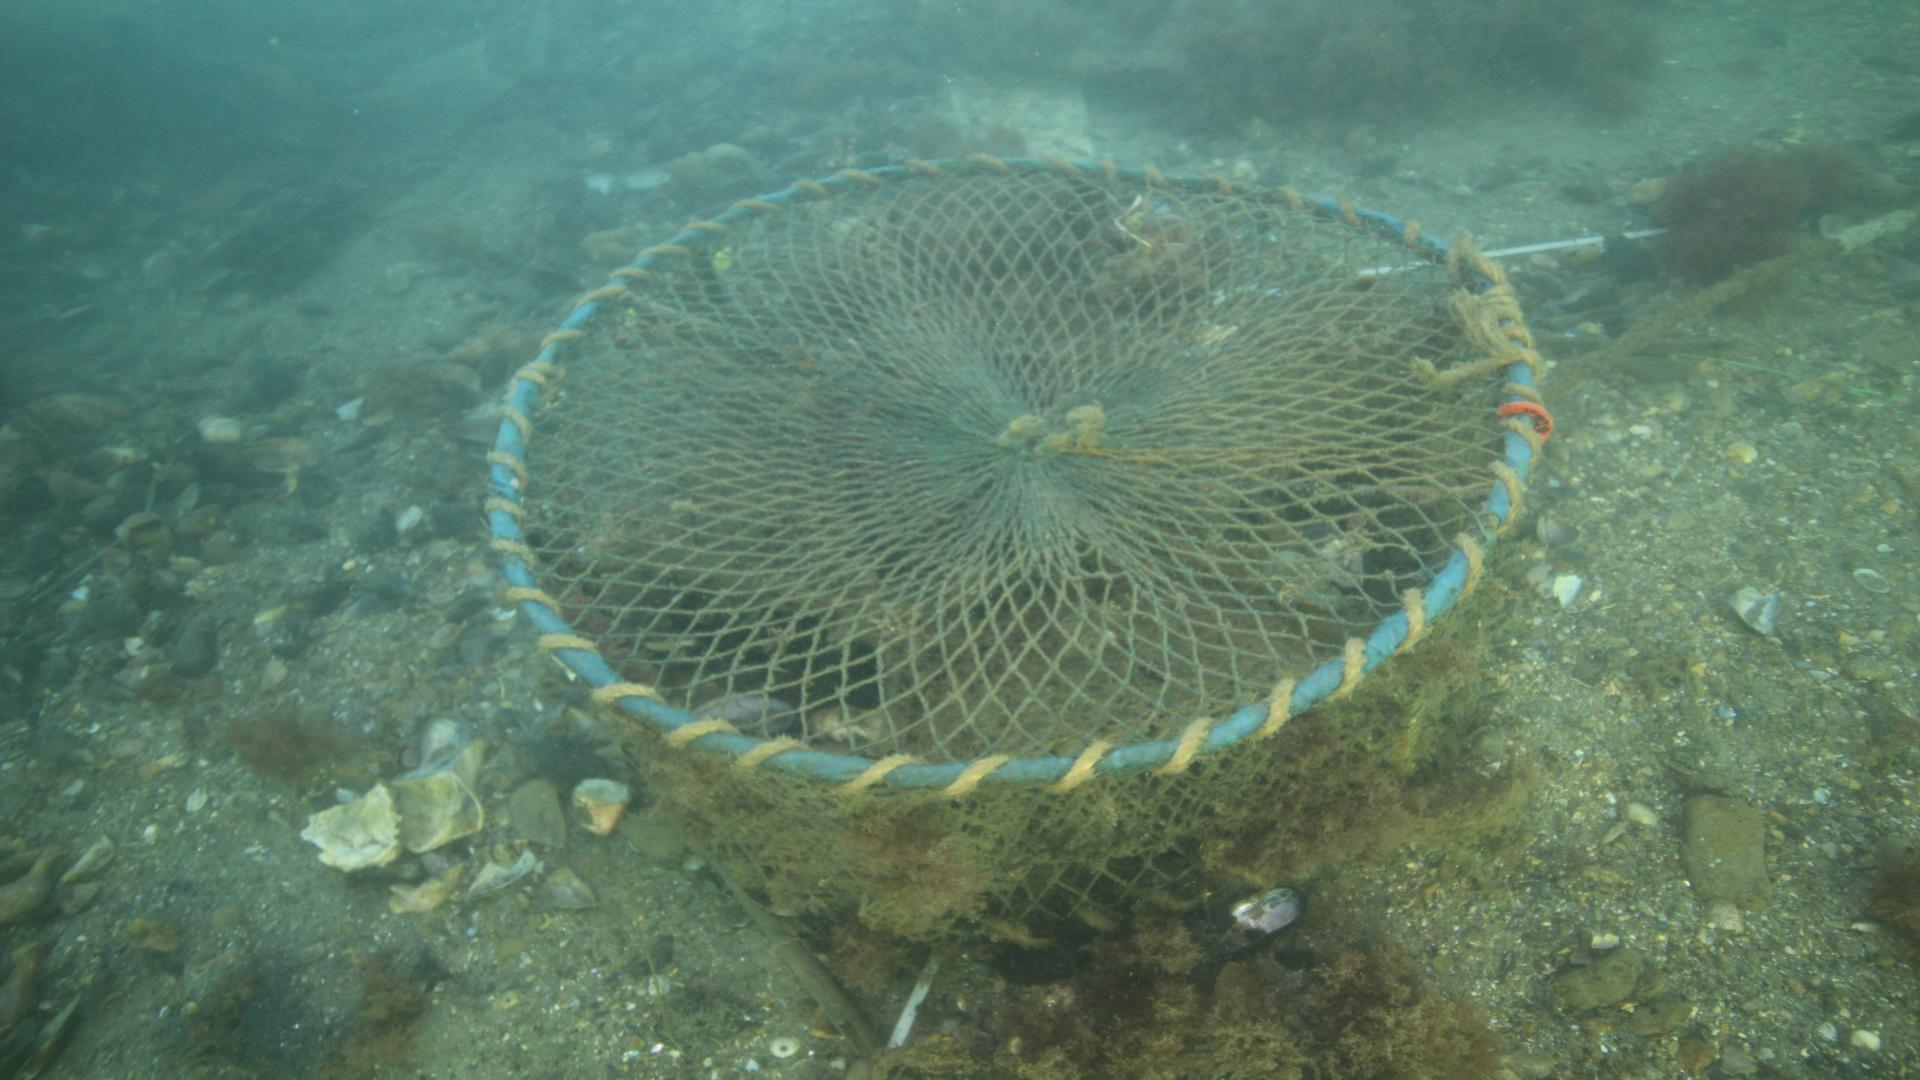circular fish trap: (481, 149, 1553, 981)
